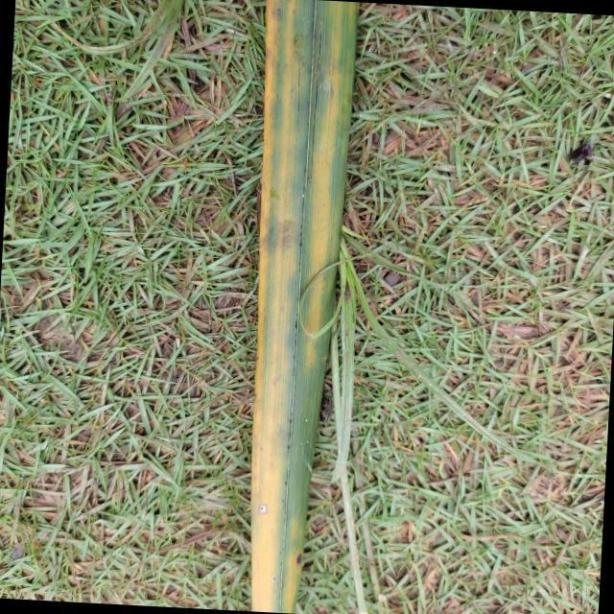Megnesium: (248, 0, 361, 614)
